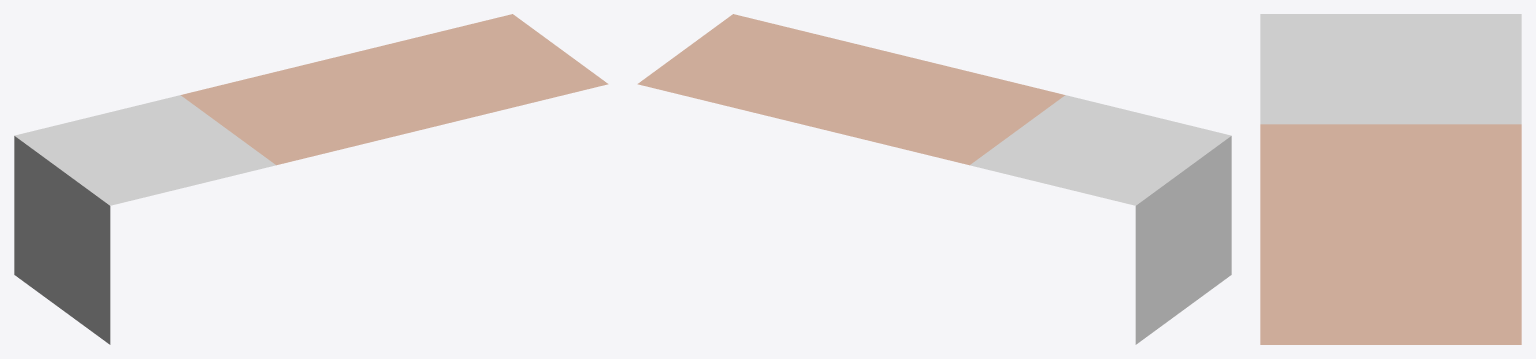
The model's file is platform_edge_short.fbx.
The picture shows the model from 3 angles, left to right: view 1: azimuth 30°, elevation 25°; view 2: azimuth 150°, elevation 25°; view 3: azimuth 270°, elevation 25°; orthographic projection. The views are drawn at different scales.
Parts seen in each view (by area): view 1: platform_tile1, platform_edge_side; view 2: platform_tile1, platform_edge_side; view 3: platform_tile1, platform_edge_side.
Boxes of the visible parts, bbox=[...] form: platform_tile1: bbox=[181, 14, 608, 165]; platform_edge_side: bbox=[14, 95, 275, 344]; platform_tile1: bbox=[637, 14, 1064, 165]; platform_edge_side: bbox=[970, 95, 1231, 344]; platform_tile1: bbox=[1260, 124, 1521, 344]; platform_edge_side: bbox=[1260, 14, 1521, 124].
Size of the model in its own units: 3 by 0.8 by 1.
